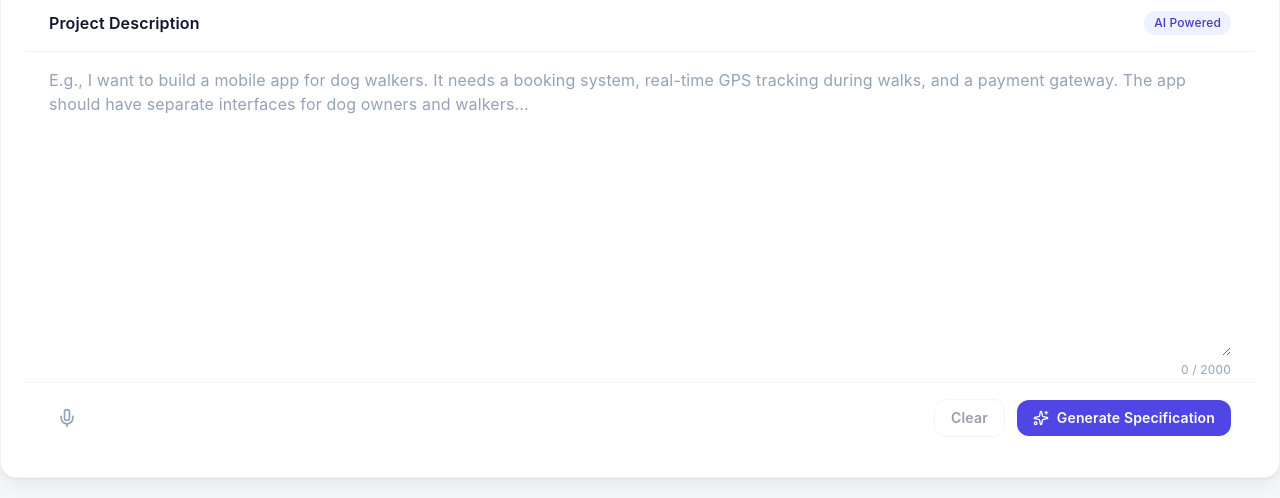
Scenario: voice input — dictation › stops listening when the microphone is clicked again
The width and height of the screenshot is (1280, 498).
Click the button named "voice input" at (67, 418), box left=49, top=400, right=85, bottom=436
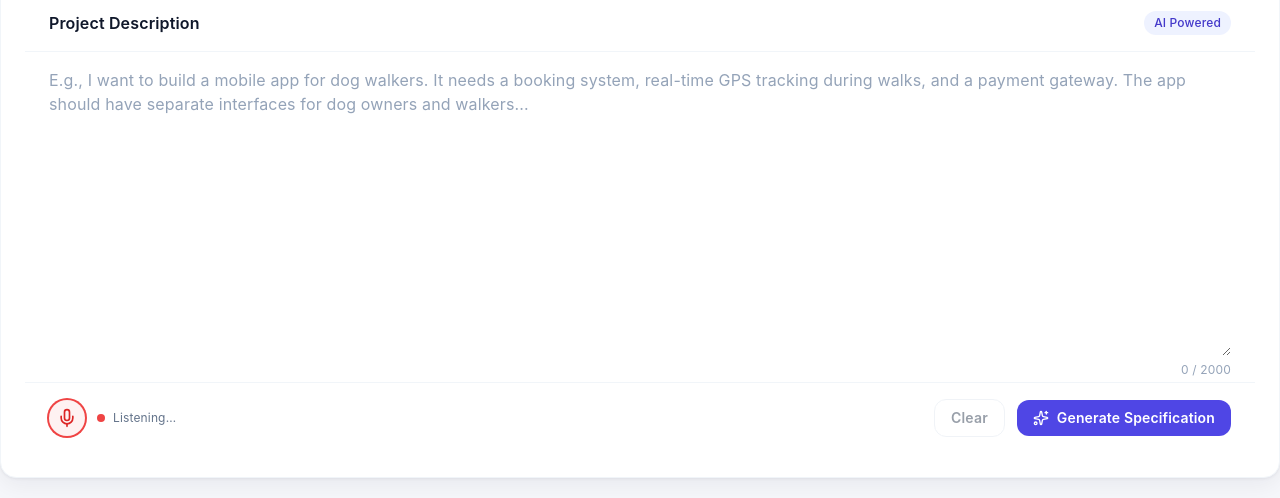
Click the button named "voice input" at (67, 418), box left=49, top=400, right=85, bottom=436
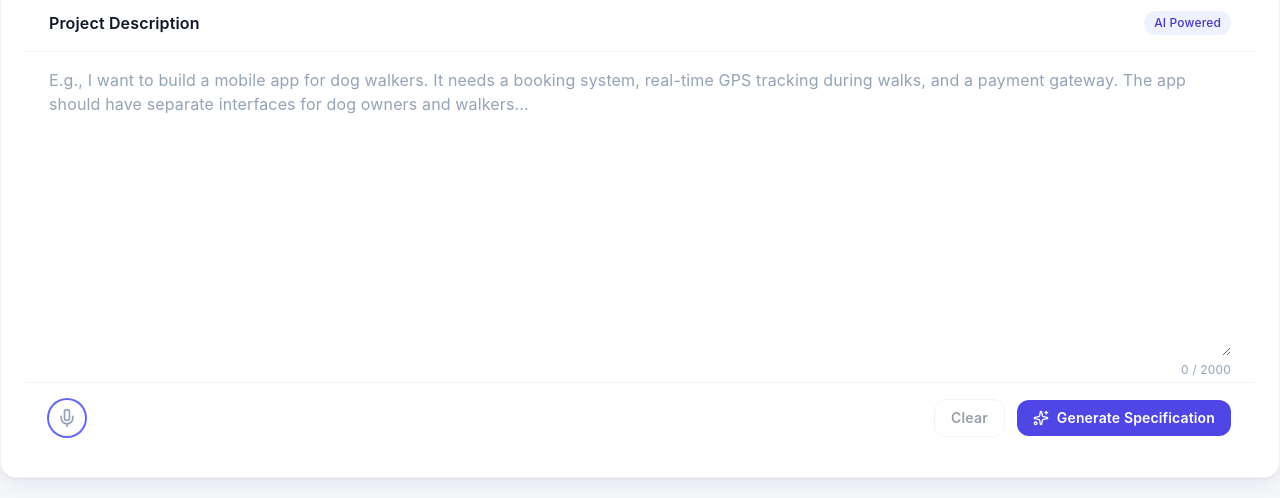
Expected: the text "Listening…" is gone
